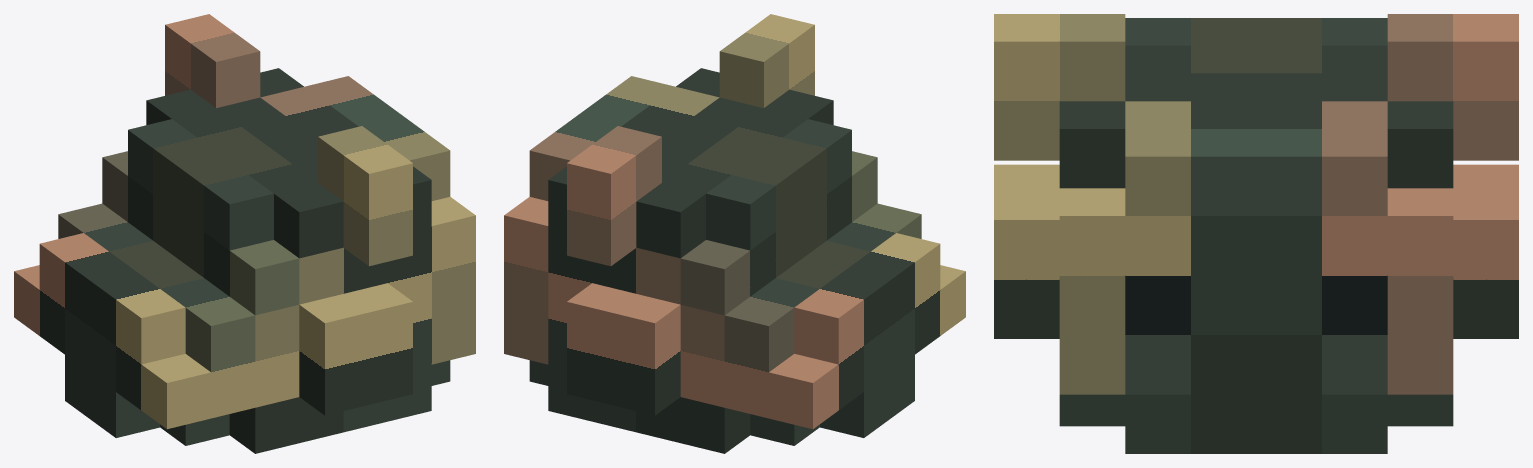
File: cannon_standart-1.fbx
3 views of the same model, side by side, from view 1: azimuth 30°, elevation 25°; view 2: azimuth 150°, elevation 25°; view 3: azimuth 270°, elevation 25° (orthographic). The views are drawn at different scales.
Parts seen in each view (by area): view 1: cannon_standart-1.001; view 2: cannon_standart-1.001; view 3: cannon_standart-1.001.
Part boxes in pixels (x1,y1,x2,y2): cannon_standart-1.001: (14,14,475,453); cannon_standart-1.001: (504,14,965,453); cannon_standart-1.001: (994,14,1518,453).
Size of the model in its own units: 0.7 by 0.6 by 0.8.
Materials: 1 (1 with a texture image).
